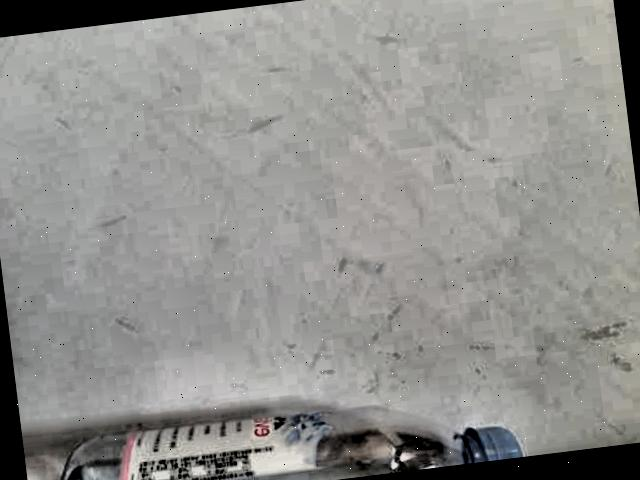Bottles: (30, 337, 558, 480)
